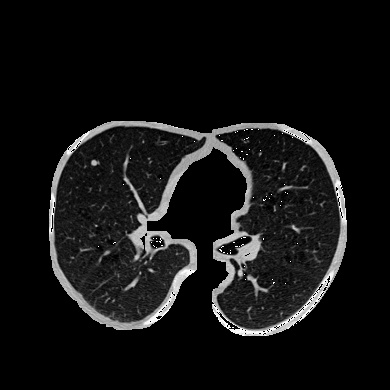PN: (91, 160, 97, 166)
